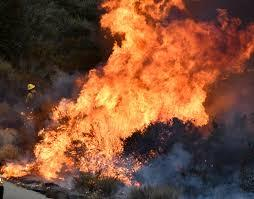fire: (1, 1, 252, 185)
